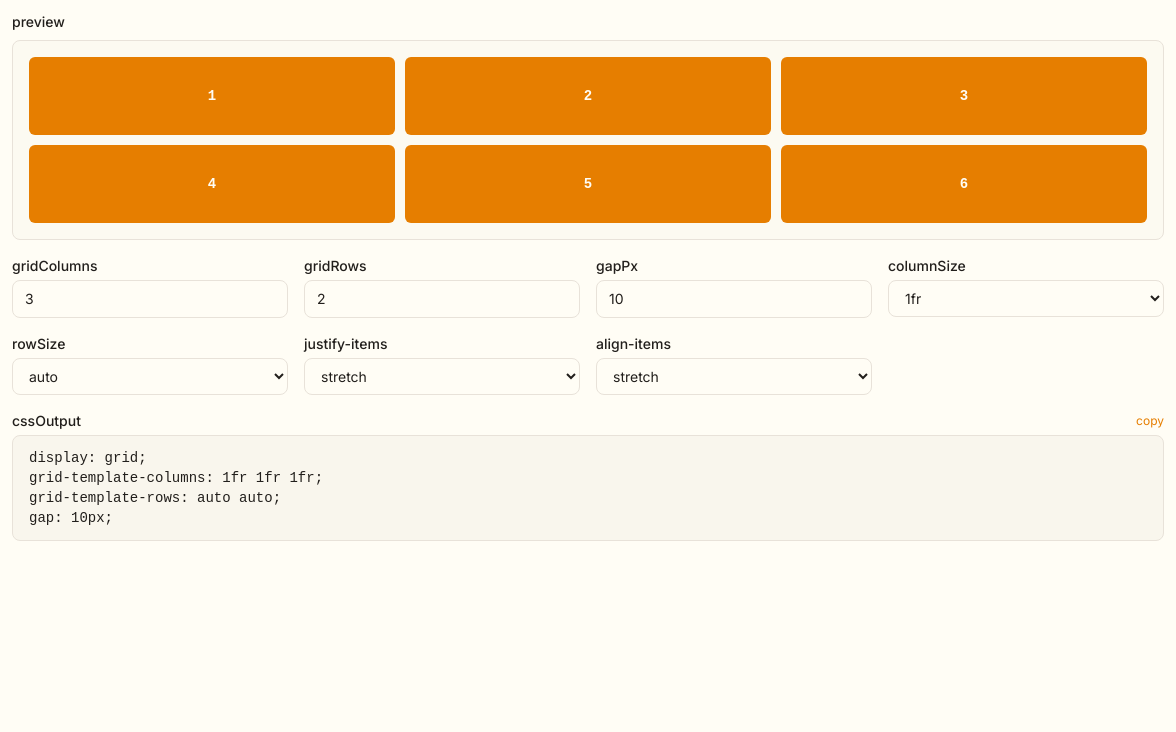
Test case: CssGridGenerator › includes gap when greater than 0
Replace the text in the number field labelled "gapPx" with "20": x=734, y=299 [596,280,872,318]
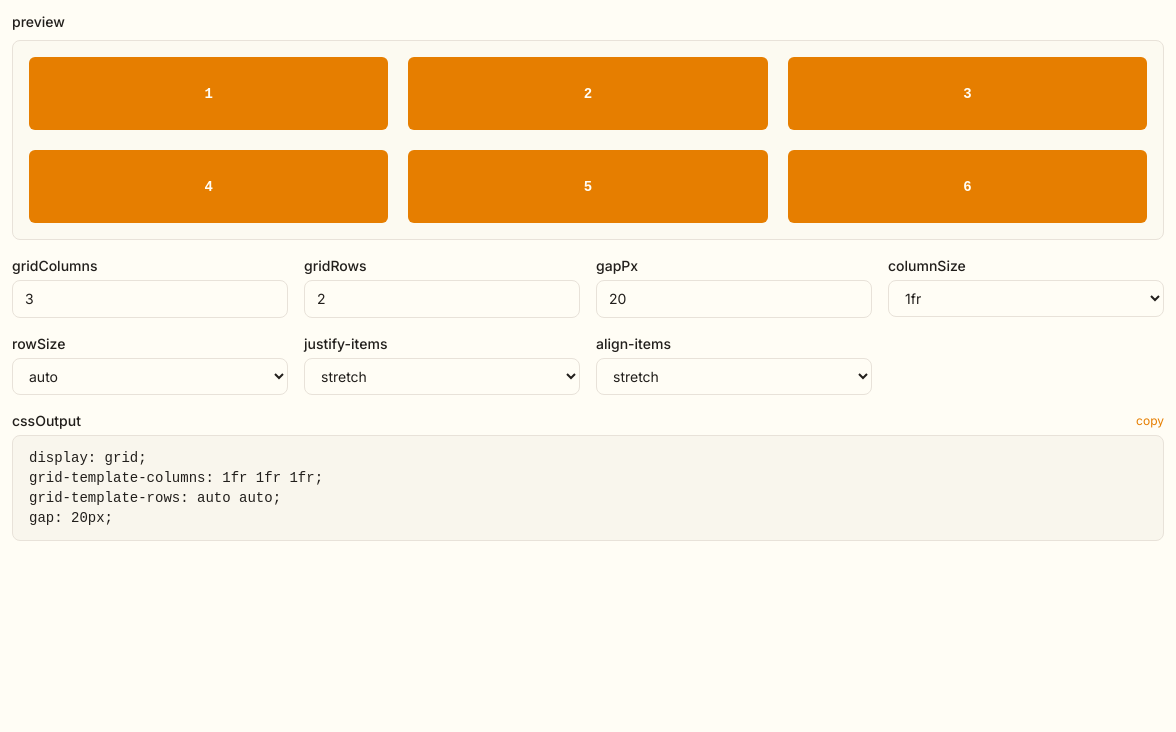
Now the text "gap: 20px" is shown, box [29,450,323,526]
